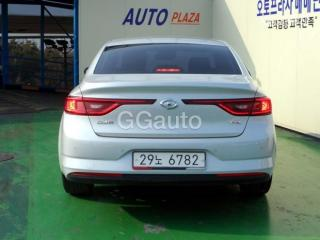2: (192, 153, 200, 167), (139, 153, 147, 166)
6: (168, 153, 176, 166)
7: (176, 154, 184, 166)
8: (183, 154, 191, 165)
9: (147, 153, 154, 166)
노: (154, 153, 164, 166)
